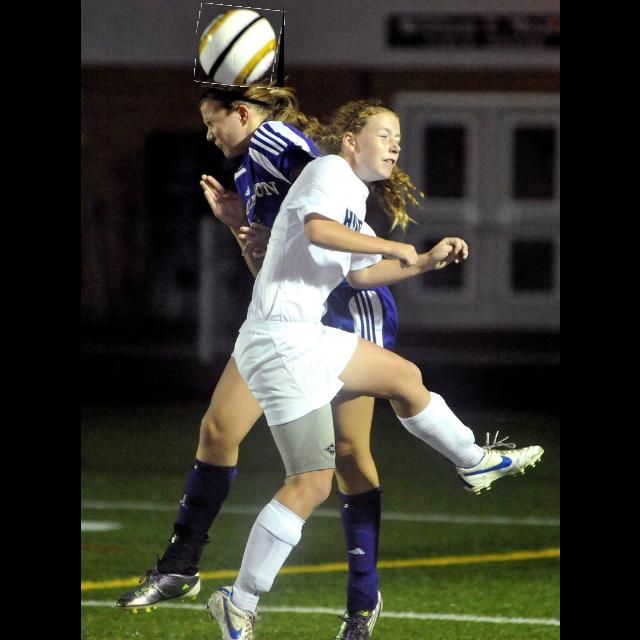Football: (196, 5, 284, 87)
